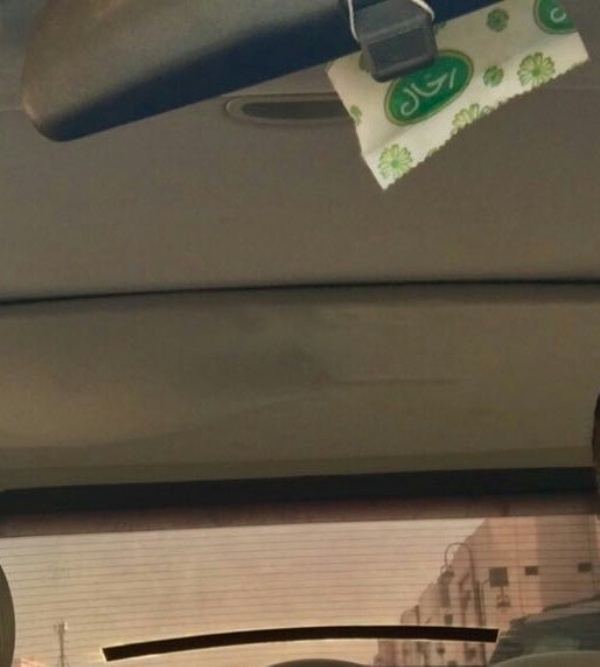text: (401, 60, 416, 122), (417, 60, 432, 122), (433, 60, 448, 122), (449, 60, 459, 122), (394, 60, 400, 122), (547, 2, 560, 29), (561, 2, 572, 29)
